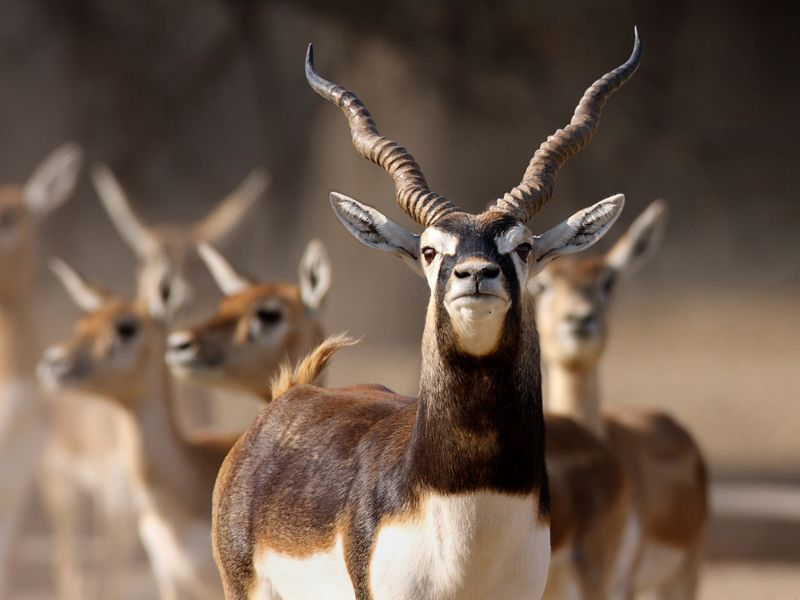Blackbuck: (208, 26, 636, 600)
Deer: (538, 197, 719, 600), (41, 262, 208, 596), (164, 243, 336, 414), (1, 138, 81, 501), (537, 407, 622, 597)
